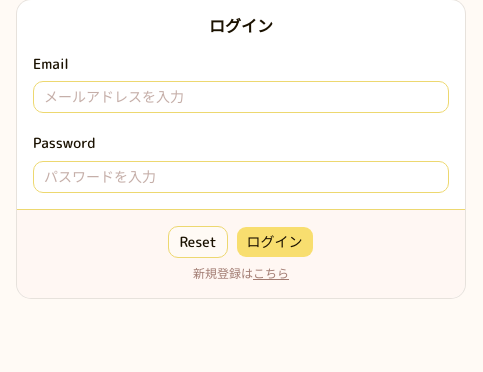
Scenario: LoginForm › 空欄で送信するとバリデーションエラーを表示する
Click the button "ログイン" at (275, 242), box [236, 226, 314, 258]
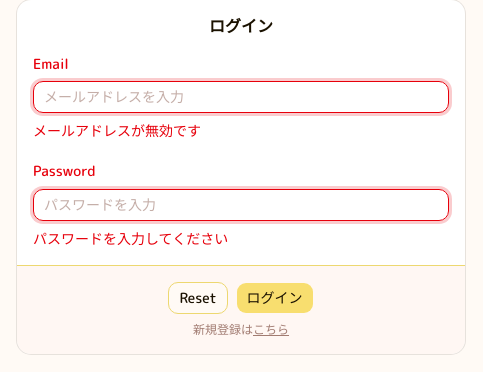
Expected: the text "メールアドレスが無効です" is shown, [33, 121, 201, 140]
Expected: the text "パスワードを入力してください" is shown, [33, 228, 228, 248]
